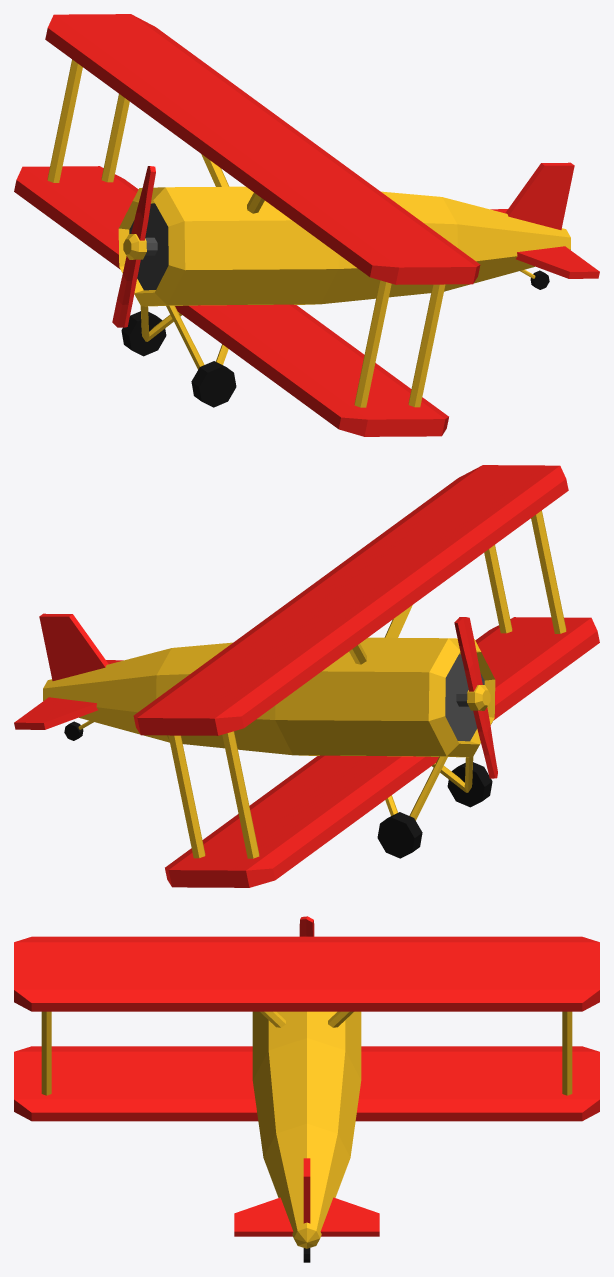
3 renders of one model, top to bottom at view 1: azimuth 30°, elevation 25°; view 2: azimuth 150°, elevation 25°; view 3: azimuth 270°, elevation 25°, orthographic. The views are drawn at different scales.
Parts seen in each view (by area): view 1: Low Poly Biplane Propeller; view 2: Low Poly Biplane Propeller; view 3: Low Poly Biplane Propeller.
Part boxes in pixels (left/top/right/bottom): Low Poly Biplane Propeller: left=14, top=14, right=599, bottom=436; Low Poly Biplane Propeller: left=14, top=465, right=599, bottom=887; Low Poly Biplane Propeller: left=14, top=916, right=599, bottom=1262.
Size of the model in its own units: 0.7709 by 0.3632 by 1.01.
